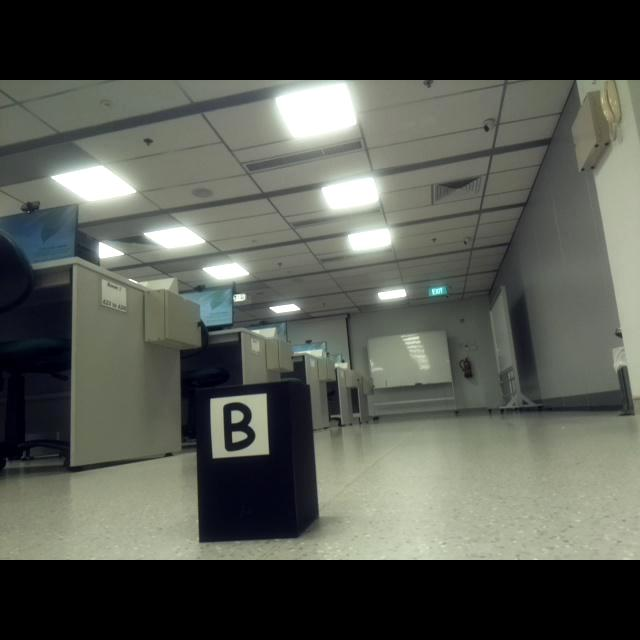B: (223, 403, 256, 452)
